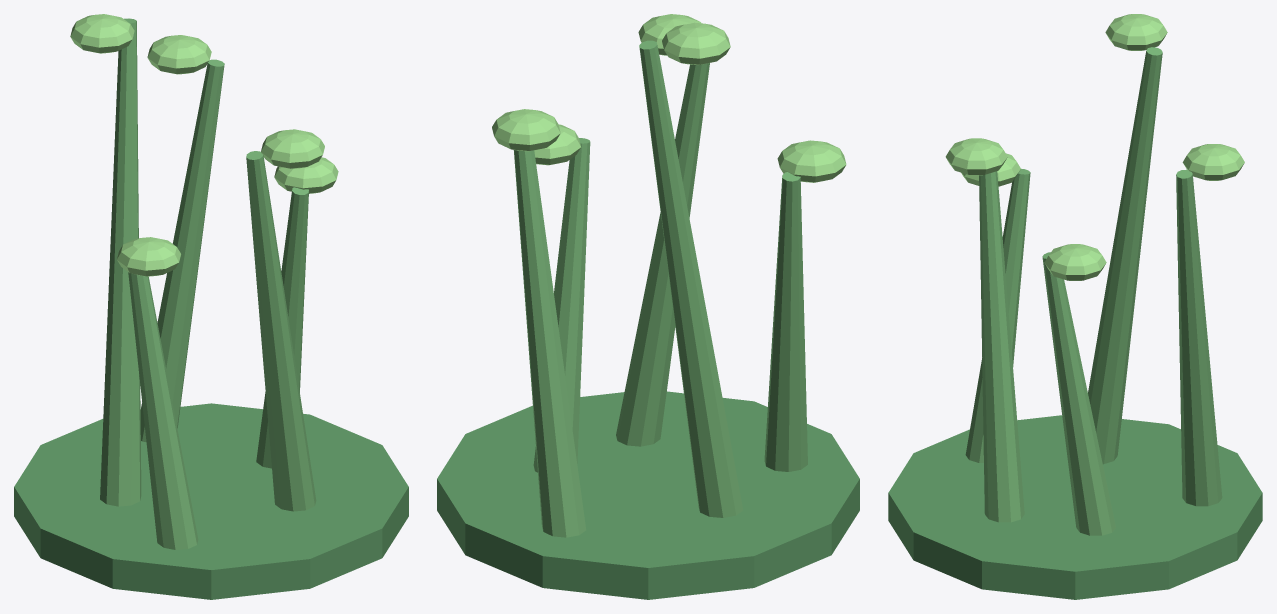
The model's file is vines.glb.
3 views of the same model, side by side, from view 1: azimuth 30°, elevation 25°; view 2: azimuth 150°, elevation 25°; view 3: azimuth 270°, elevation 25° (orthographic). The views are drawn at different scales.
Parts seen in each view (by area): view 1: vines; view 2: vines; view 3: vines.
Boxes of the visible parts, box(x1,y1,x2,y2) form: vines: box(14, 14, 408, 599); vines: box(437, 14, 859, 599); vines: box(888, 14, 1262, 599).
Size of the model in its own units: 1.8 by 2.48 by 1.8.
